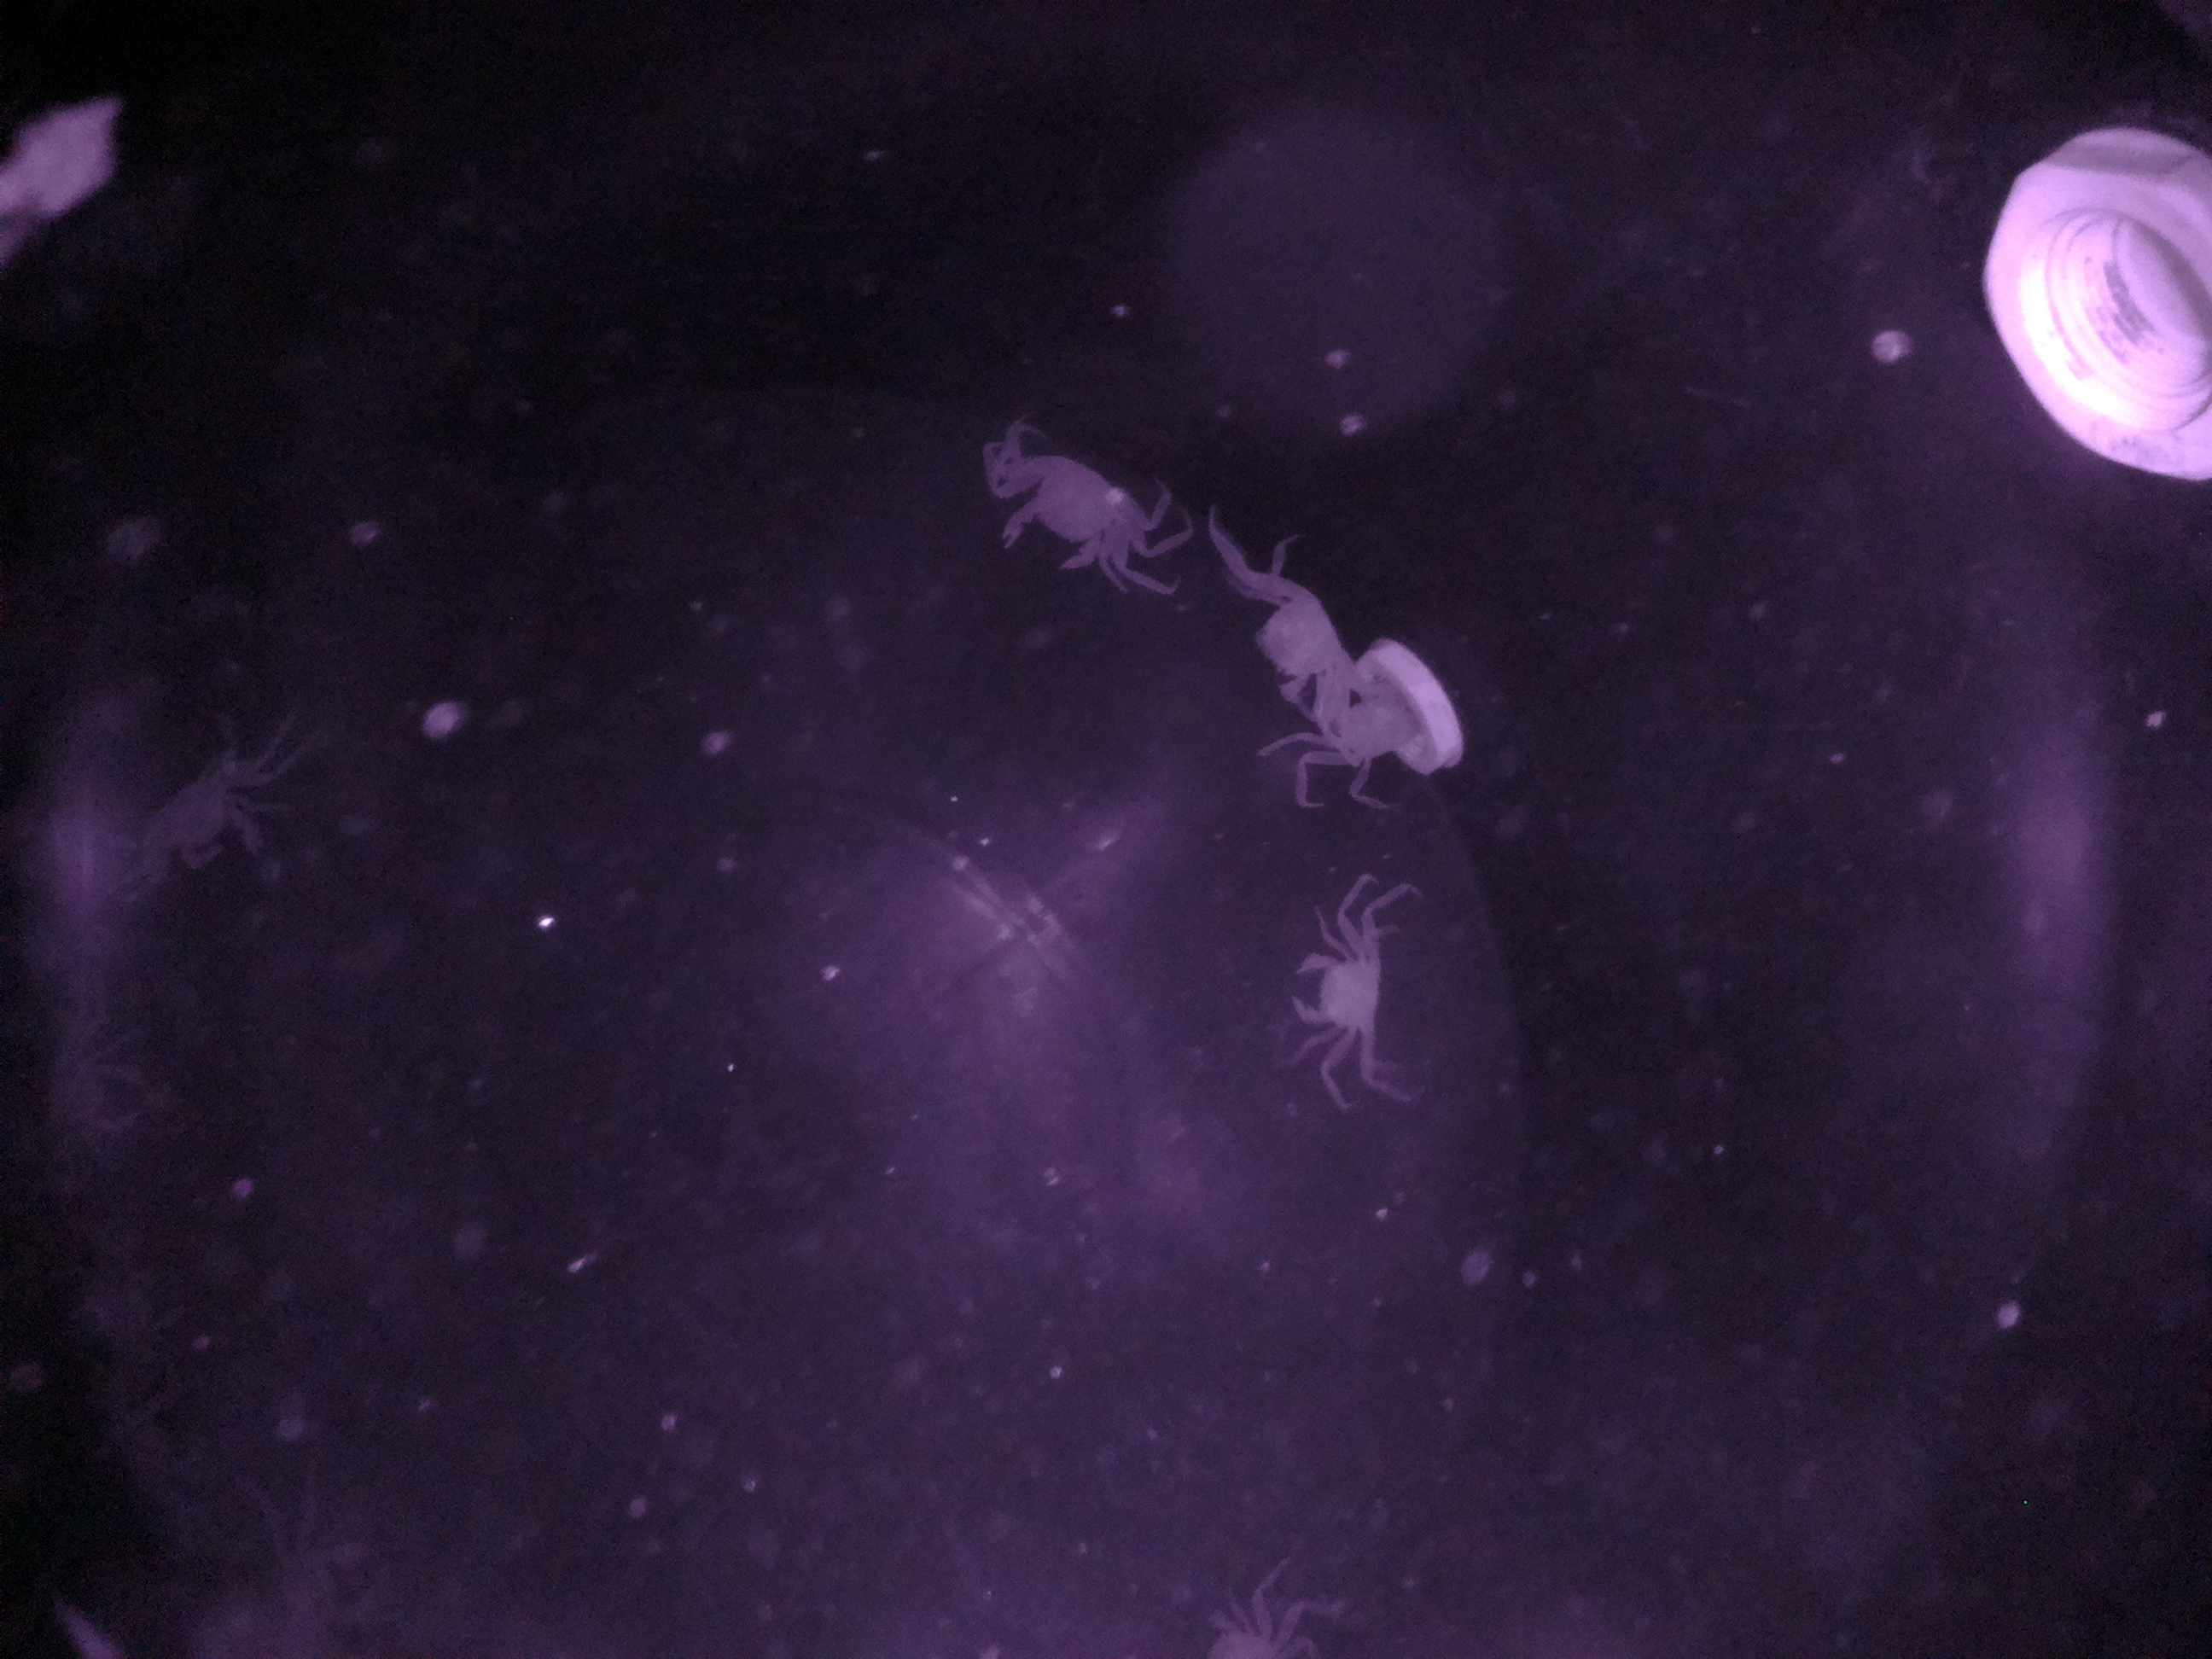Crab: (967, 408, 1167, 619), (1266, 903, 1407, 1070)
